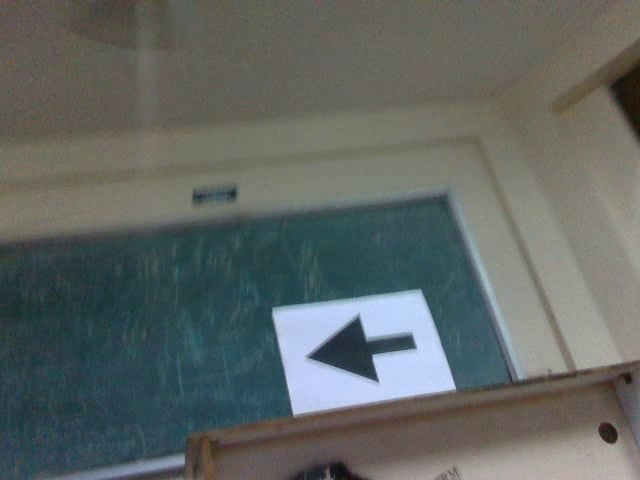Left: (304, 310, 421, 389)
